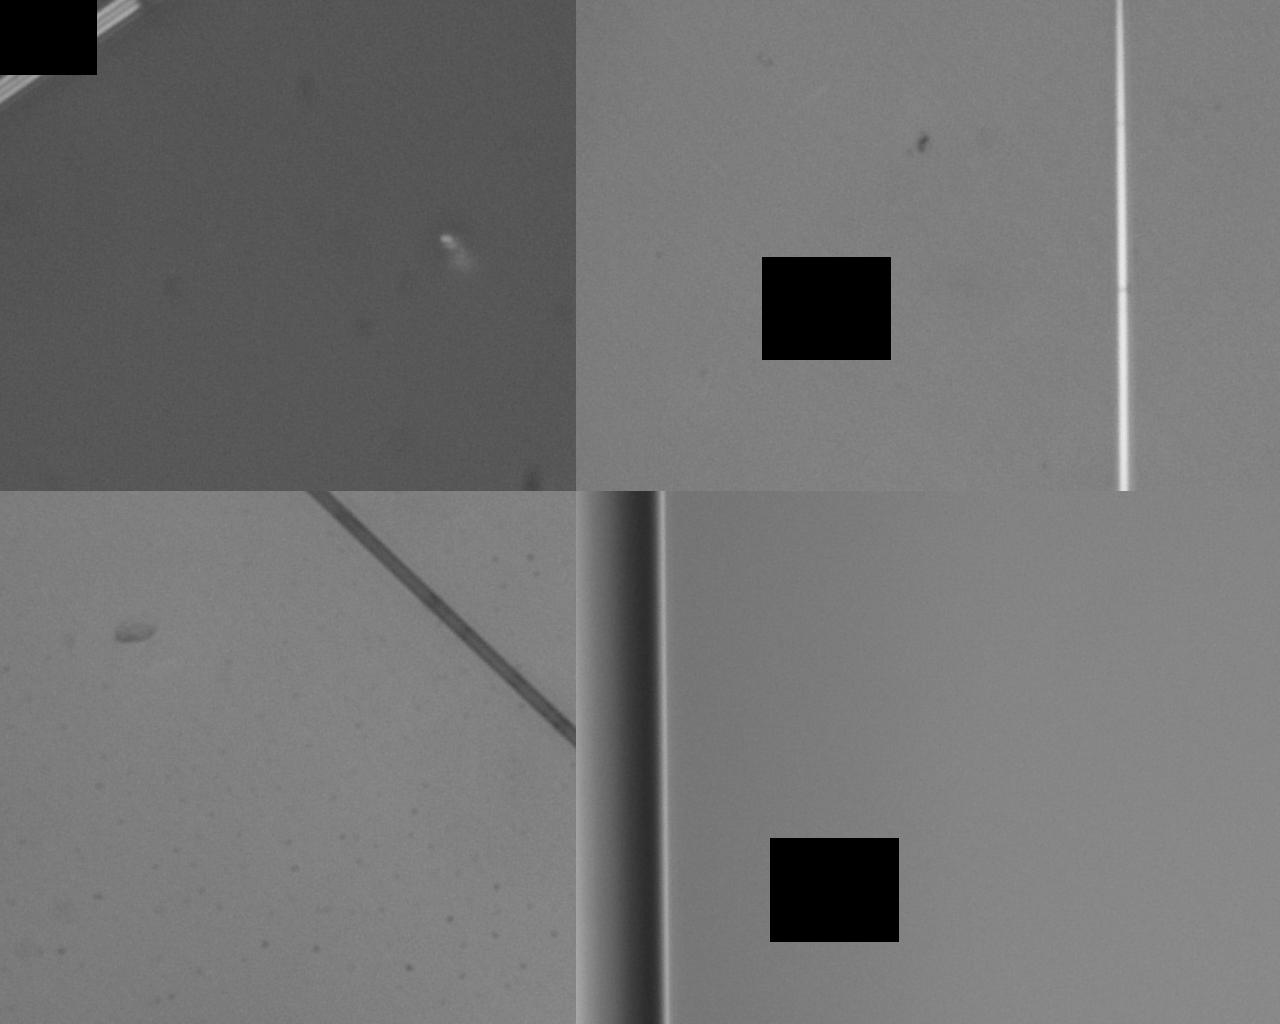fiber: (571, 522, 817, 1024), (960, 0, 1035, 522)
